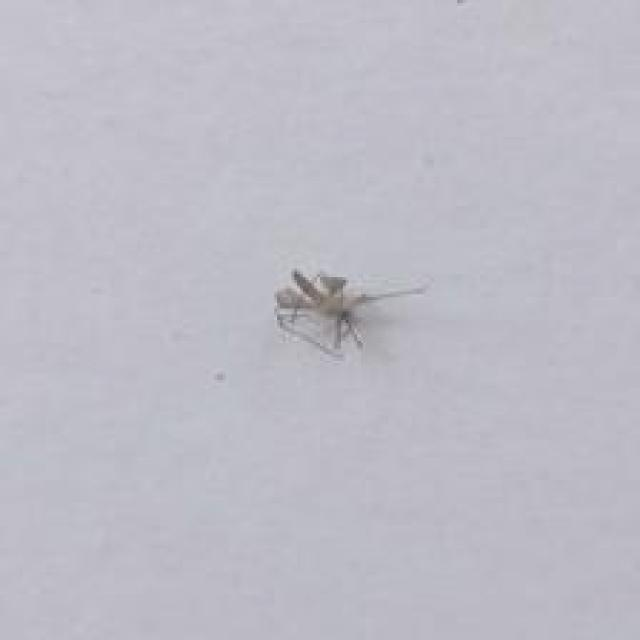Culex: (272, 266, 428, 357)
